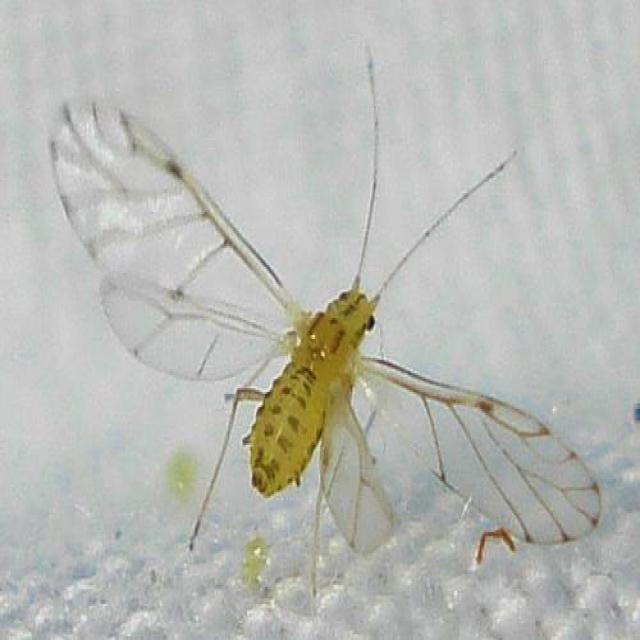Aphids: (55, 58, 596, 592)
